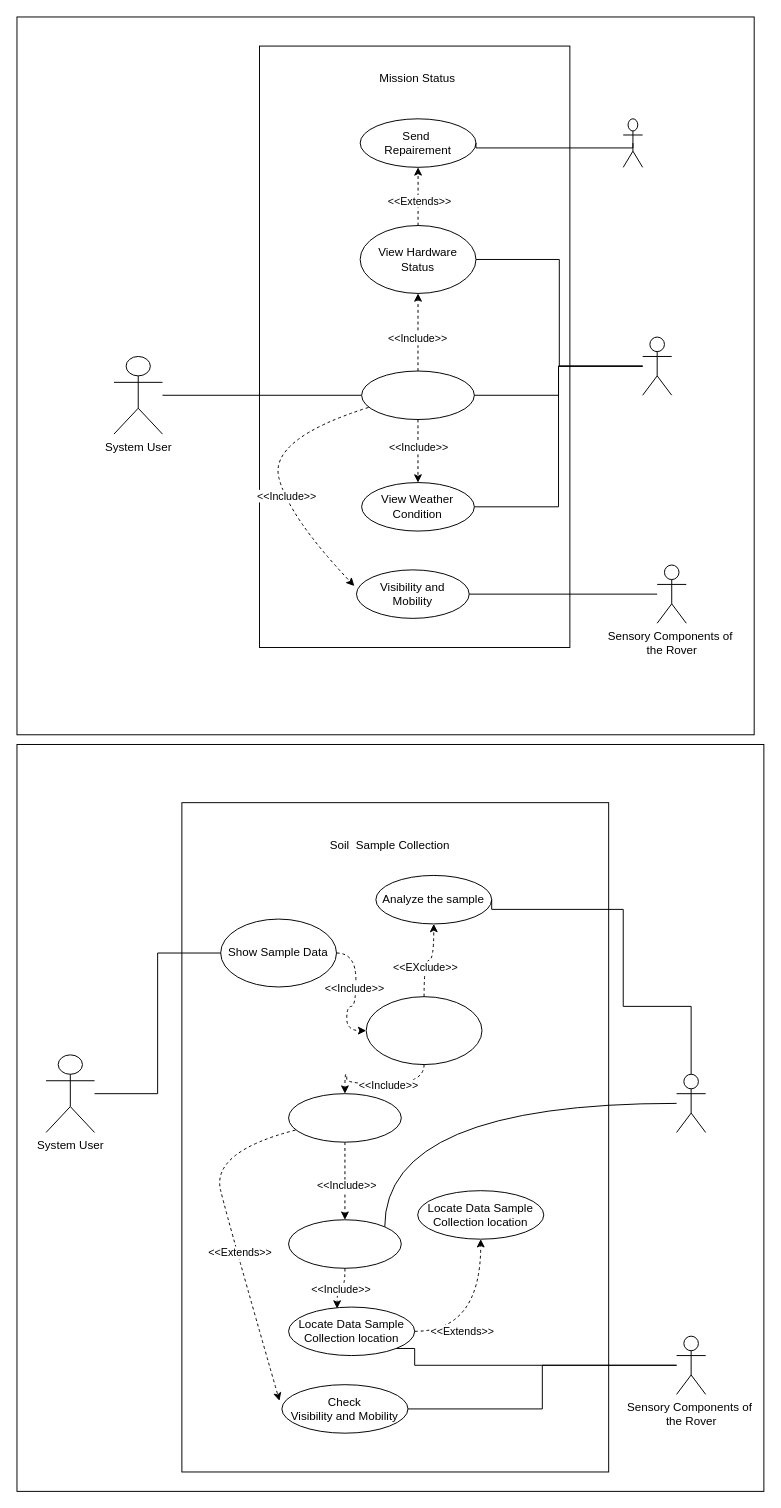
This 781x1508 diagram has some shape labels left out. The centre of each missing label's shape, as x and y in pixels:
Database Provider: (x=657, y=365)
Drill and Collect Sample: (x=344, y=1243)
Hardware Module: (x=691, y=1102)
Maintainance Provider: (x=632, y=142)
Mission Progress: (x=417, y=395)
SoilCollection: (x=344, y=1117)
Store Sample: (x=423, y=1030)
